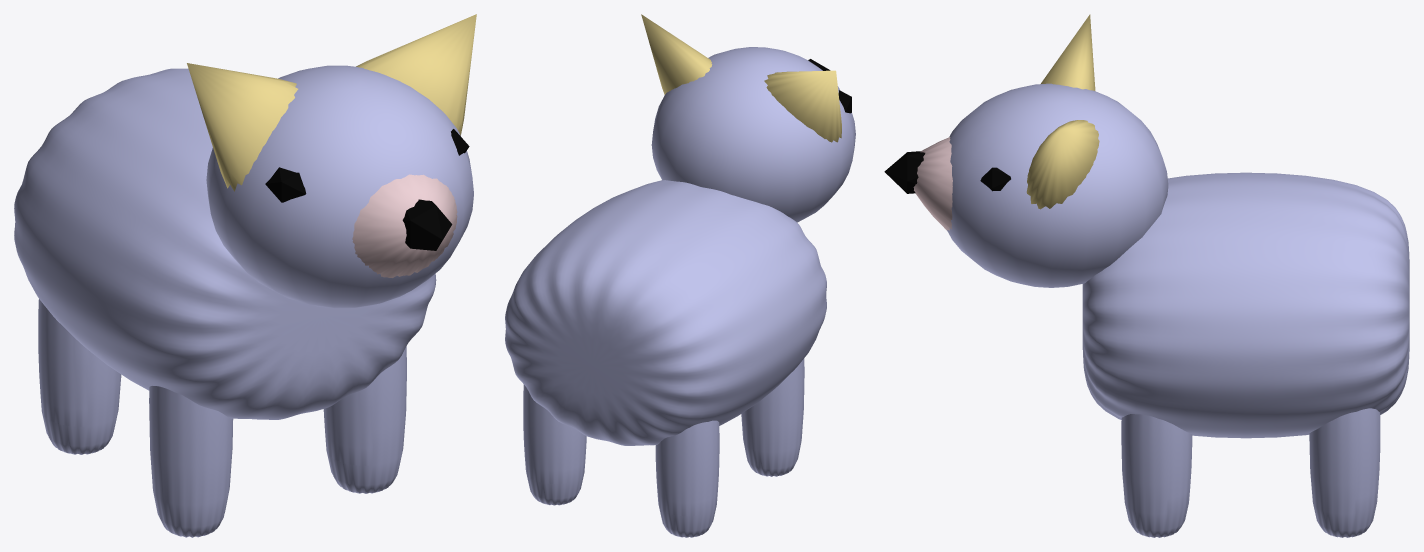
The model's file is cat.fbx.
3 views of the same model, side by side, from view 1: azimuth 30°, elevation 25°; view 2: azimuth 150°, elevation 25°; view 3: azimuth 270°, elevation 25° (orthographic). The views are drawn at different scales.
Parts seen in each view (by area): view 1: polySurface6, polySurface4, polySurface5, polySurface7, polySurface8, polySurface2, polySurface1, polySurface3, pPlatonic3, pPlatonic2; view 2: polySurface6, polySurface4, polySurface7, polySurface9, polySurface5, polySurface2, polySurface3; view 3: polySurface6, polySurface4, polySurface9, polySurface8, polySurface3, polySurface1, polySurface2, pPlatonic3.
Part boxes in pixels (x1=…): polySurface6: x1=14, y1=68, x2=436, y2=419; polySurface4: x1=206, y1=65, x2=473, y2=308; polySurface5: x1=149, y1=386, x2=233, y2=537; polySurface7: x1=38, y1=299, x2=121, y2=454; polySurface8: x1=323, y1=346, x2=406, y2=493; polySurface2: x1=187, y1=63, x2=298, y2=191; polySurface1: x1=352, y1=174, x2=457, y2=277; polySurface3: x1=356, y1=14, x2=476, y2=135; pPlatonic3: x1=402, y1=199, x2=452, y2=250; pPlatonic2: x1=265, y1=167, x2=306, y2=202; polySurface6: x1=505, y1=180, x2=826, y2=445; polySurface4: x1=651, y1=47, x2=855, y2=222; polySurface7: x1=655, y1=420, x2=719, y2=537; polySurface9: x1=523, y1=384, x2=586, y2=505; polySurface5: x1=741, y1=358, x2=804, y2=476; polySurface2: x1=764, y1=70, x2=841, y2=142; polySurface3: x1=641, y1=14, x2=712, y2=94; polySurface6: x1=1082, y1=172, x2=1409, y2=438; polySurface4: x1=947, y1=83, x2=1168, y2=287; polySurface9: x1=1309, y1=408, x2=1380, y2=537; polySurface8: x1=1121, y1=414, x2=1192, y2=537; polySurface3: x1=1026, y1=120, x2=1099, y2=209; polySurface1: x1=913, y1=137, x2=952, y2=230; polySurface2: x1=1041, y1=14, x2=1095, y2=90; pPlatonic3: x1=884, y1=151, x2=925, y2=193.
Size of the model in its own units: 2.1 by 3.18 by 3.53.
